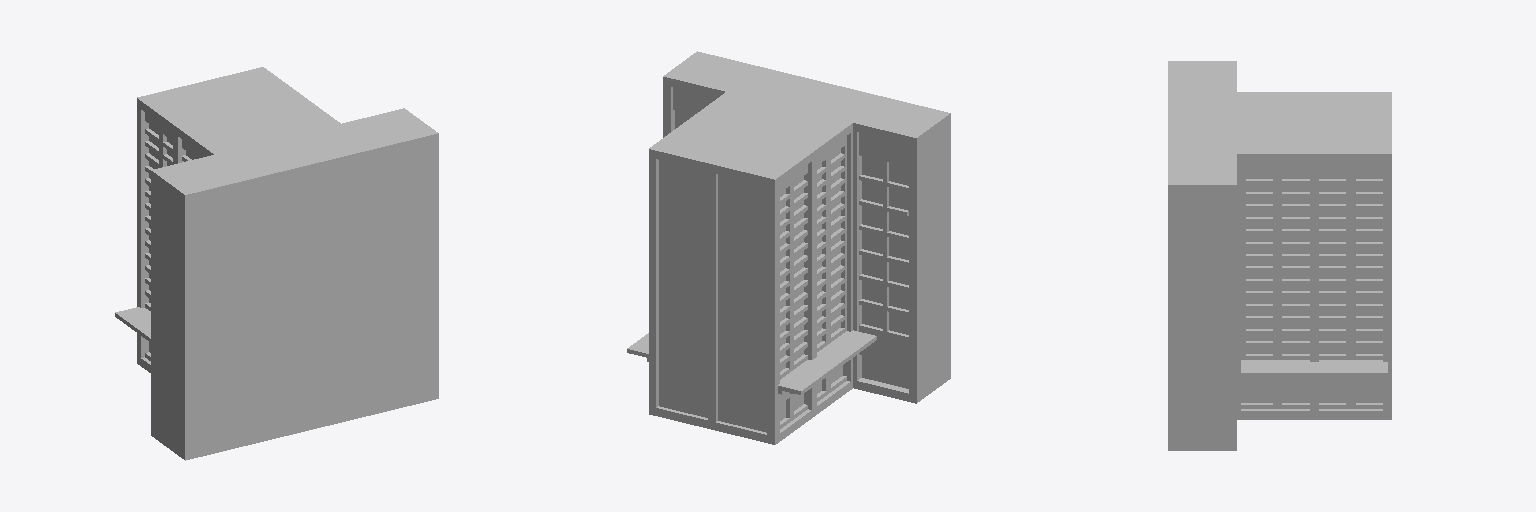
File: Menu Obs-10.obj
3 views of the same model, side by side, from view 1: azimuth 30°, elevation 25°; view 2: azimuth 150°, elevation 25°; view 3: azimuth 270°, elevation 25° (orthographic).
Visible parts, largest first — view 1: Menu Obs-10; view 2: Menu Obs-10; view 3: Menu Obs-10.
Part boxes in pixels (x1,y1,x2,y2): Menu Obs-10: (115, 67, 438, 460); Menu Obs-10: (627, 51, 950, 444); Menu Obs-10: (1168, 61, 1391, 450).
Size of the model in its own units: 64 by 64 by 49.